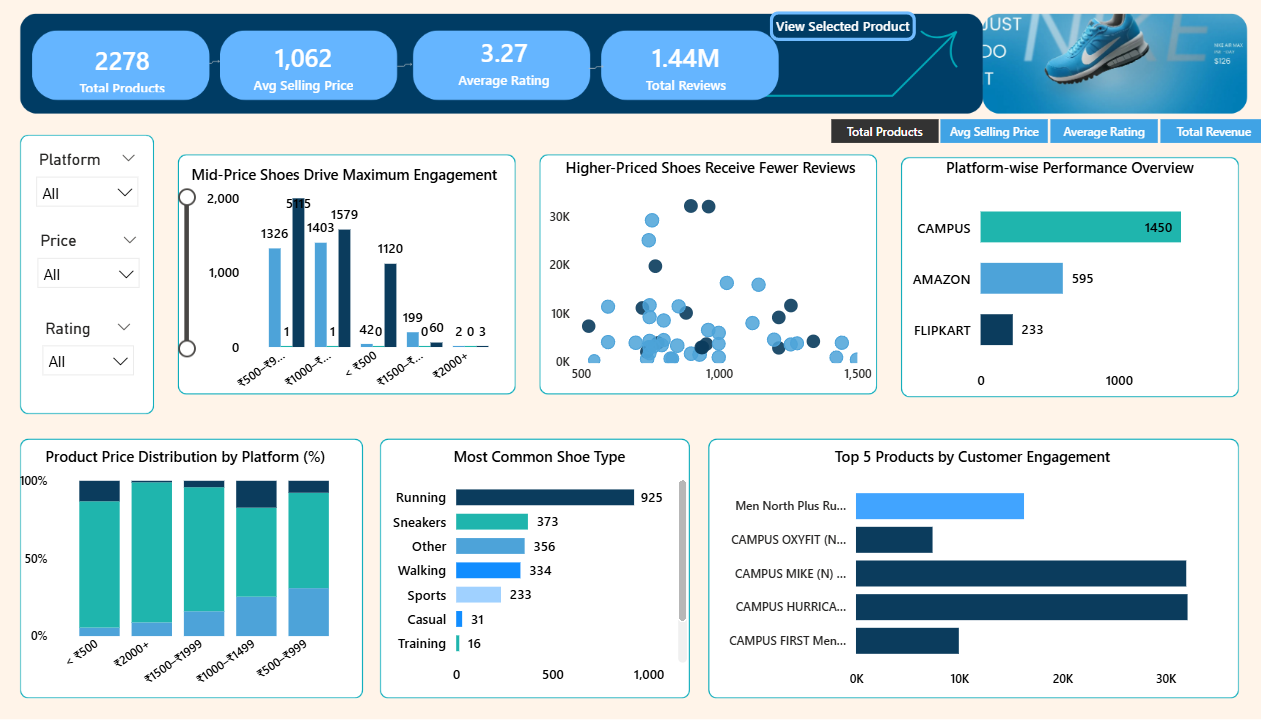

What the dashboard file says about the page in this screenshot:
{"tool":"powerbi","page":{"name":"Page 1","canvas":[1280,720],"ordinal":0},"visuals":[{"type":"cardVisual","title":"Total Products Listed","fields":{"Data":["products.Total Products"]},"box":[98.8,56.3,150.9,76.8],"z":0},{"type":"cardVisual","fields":{"Data":["products.Average Rating"]},"box":[440.8,33.8,160.6,108.5],"z":1000},{"type":"cardVisual","fields":{"Data":["products.Avg Selling Price"]},"box":[263.4,42.3,150.7,100],"z":2000},{"type":"cardVisual","fields":{"Data":["products.Total Reviews"]},"box":[611.3,42.3,150.7,100],"z":3000},{"type":"slicer","fields":{"Values":["Parameter.Parameter"]},"box":[791.8,132.9,447.1,30.6],"z":4000},{"type":"barChart","title":"Platform-wise Performance Overview","fields":{"Y":["products.Total Products"],"Category":["products.Platform"]},"box":[885.9,175.3,297.6,221.2],"z":5000},{"type":"clusteredColumnChart","title":"Mid-Price Shoes Drive Maximum Engagement","fields":{"Category":["products.Price Bucket"],"Series":["products.Platform"],"Y":["products.Avg Reviews per Product"]},"box":[221.2,181.2,308.2,215.3],"z":6000},{"type":"barChart","title":"Top 5 Products by Customer Engagement","fields":{"Category":["products.Product_Display"],"Y":["Avg(products.Reviews)"]},"box":[708.7,437.7,475.4,229],"z":7000},{"type":"hundredPercentStackedColumnChart","title":"Product Price Distribution by Platform (%)","fields":{"Y":["CountNonNull(products.Product Name)"],"Series":["products.Platform"],"Category":["products.Price Bucket"]},"box":[75.6,437.8,312.2,227.8],"z":8000},{"type":"scatterChart","title":"Higher-Priced Shoes Receive Fewer Reviews","fields":{"Category":["shoes_data products.Name"],"X":["Avg(shoes_data products.Price)"],"Y":["Avg(shoes_data products.Reviews)"],"Series":["shoes_data products.Platform"],"Size":["Avg(shoes_data products.Rating)"]},"box":[556.5,175.3,303.5,214.1],"z":9000},{"type":"clusteredBarChart","title":"Most Common Shoe Type","fields":{"Category":["products.Product Keyword"],"Y":["CountNonNull(products.Product Name)"]},"box":[414.1,437.6,278.8,225.9],"z":10000},{"type":"slicer","fields":{"Values":["products.Platform"]},"box":[85.4,163.4,113.4,59.8],"z":11000},{"type":"slicer","fields":{"Values":["shoes_data products.Price"]},"box":[86.6,237.8,113.4,59.8],"z":12000},{"type":"slicer","fields":{"Values":["shoes_data products.Rating"]},"box":[91.5,317.1,103.7,59.8],"z":13000},{"type":"actionButton","title":"click","box":[762.4,42.4,132.9,27.1],"z":14000}]}

Visuals, with their boxes in screenshot pixels (x1, y1, x2, y2), scaled from the page's 1280x720 canvas onto the 1261x723 screenshot:
"Total Products Listed" cardVisual: [97, 57, 246, 134]
cardVisual - products.Average Rating: [434, 34, 592, 143]
cardVisual - products.Avg Selling Price: [259, 42, 408, 143]
cardVisual - products.Total Reviews: [602, 42, 751, 143]
slicer - Parameter.Parameter: [780, 133, 1221, 164]
"Platform-wise Performance Overview" barChart: [873, 176, 1166, 398]
"Mid-Price Shoes Drive Maximum Engagement" clusteredColumnChart: [218, 182, 522, 398]
"Top 5 Products by Customer Engagement" barChart: [698, 440, 1167, 669]
"Product Price Distribution by Platform (%)" hundredPercentStackedColumnChart: [74, 440, 382, 668]
"Higher-Priced Shoes Receive Fewer Reviews" scatterChart: [548, 176, 847, 391]
"Most Common Shoe Type" clusteredBarChart: [408, 439, 683, 666]
slicer - products.Platform: [84, 164, 196, 224]
slicer - shoes_data products.Price: [85, 239, 197, 299]
slicer - shoes_data products.Rating: [90, 318, 192, 378]
"click" actionButton: [751, 43, 882, 70]
